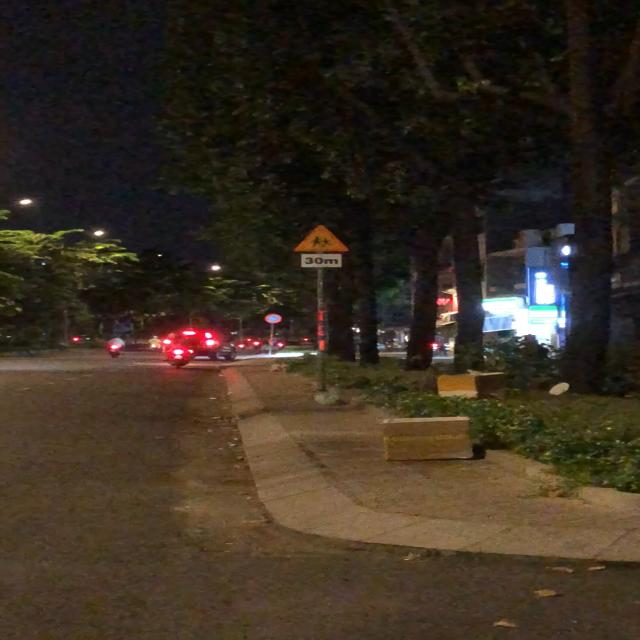Bien bao tre em: (292, 224, 355, 254)
